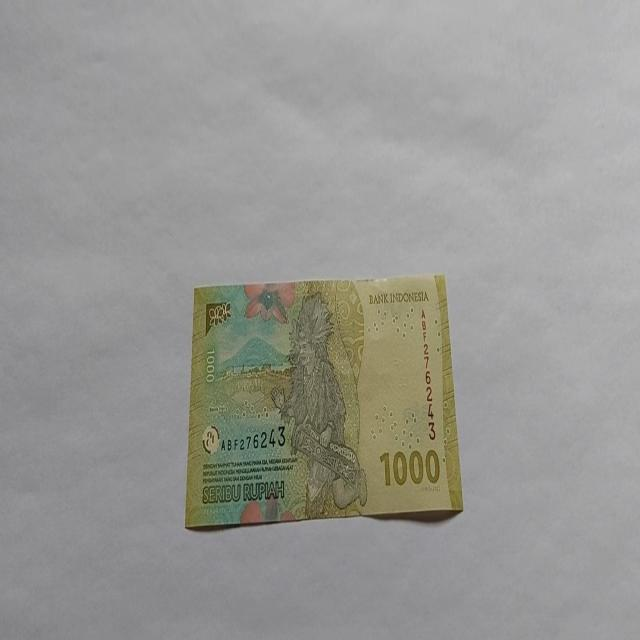seribu rupiah kertas: (184, 273, 464, 530)
